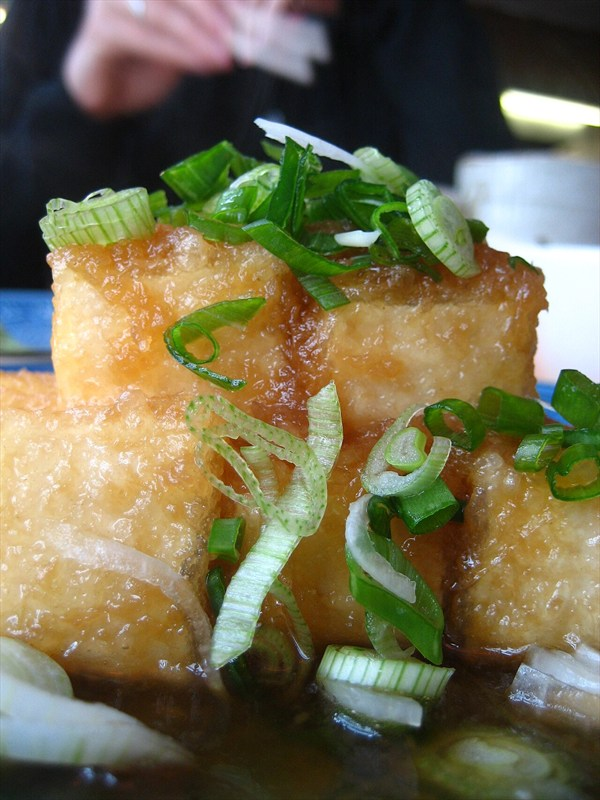Tahu Goreng: (20, 85, 576, 675)
